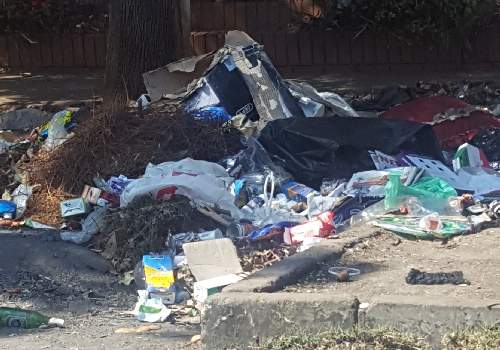trash: (21, 30, 485, 330)
